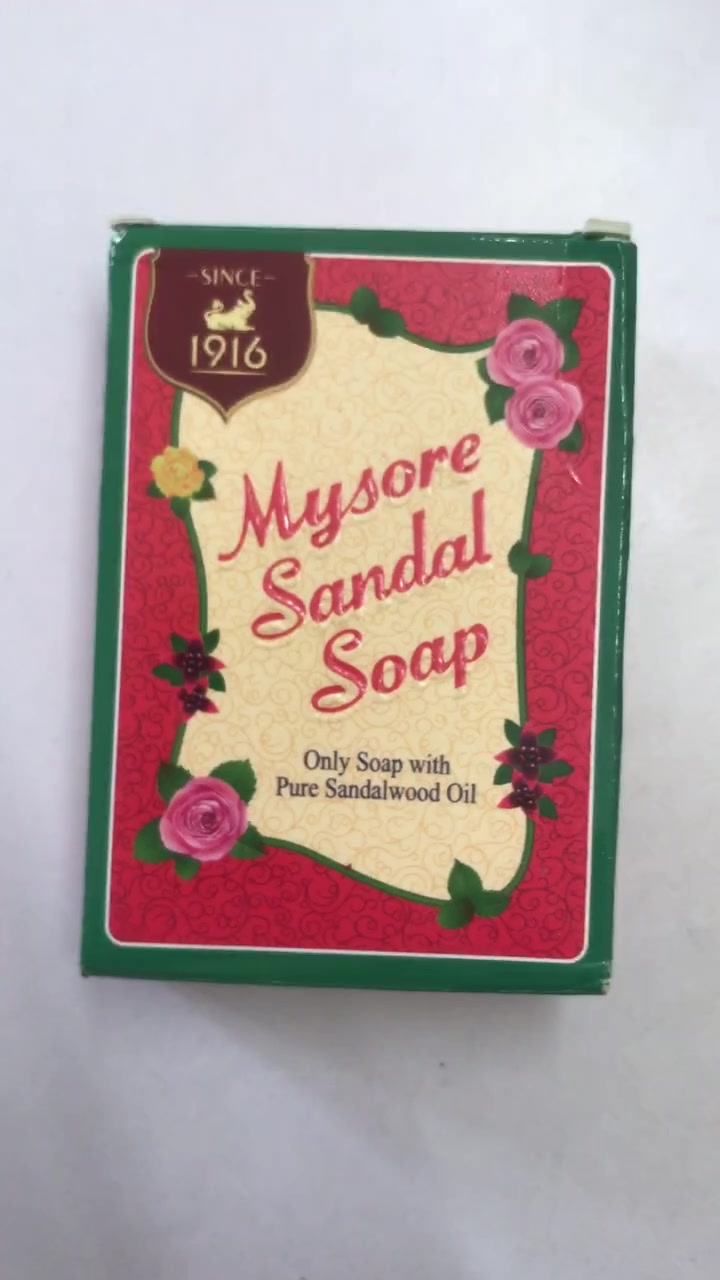mysore sandal soap: (83, 220, 616, 991)
